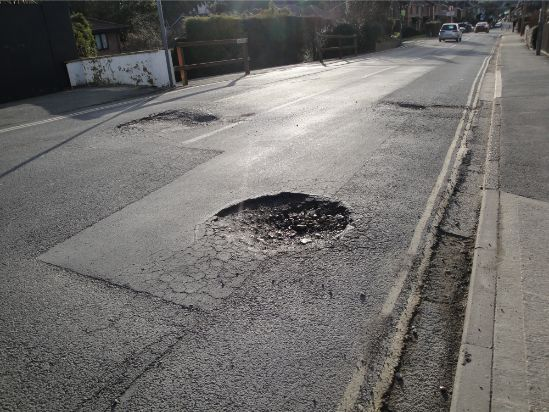pothole: (202, 187, 358, 252), (114, 109, 223, 135)
